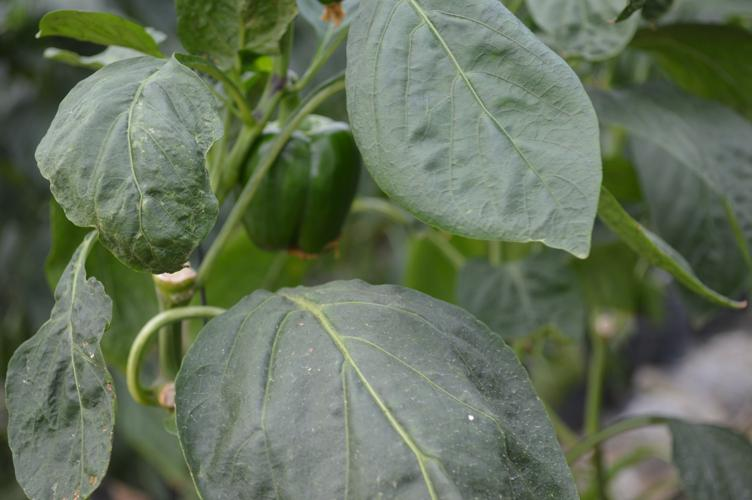BellPepper: (235, 116, 357, 260)
